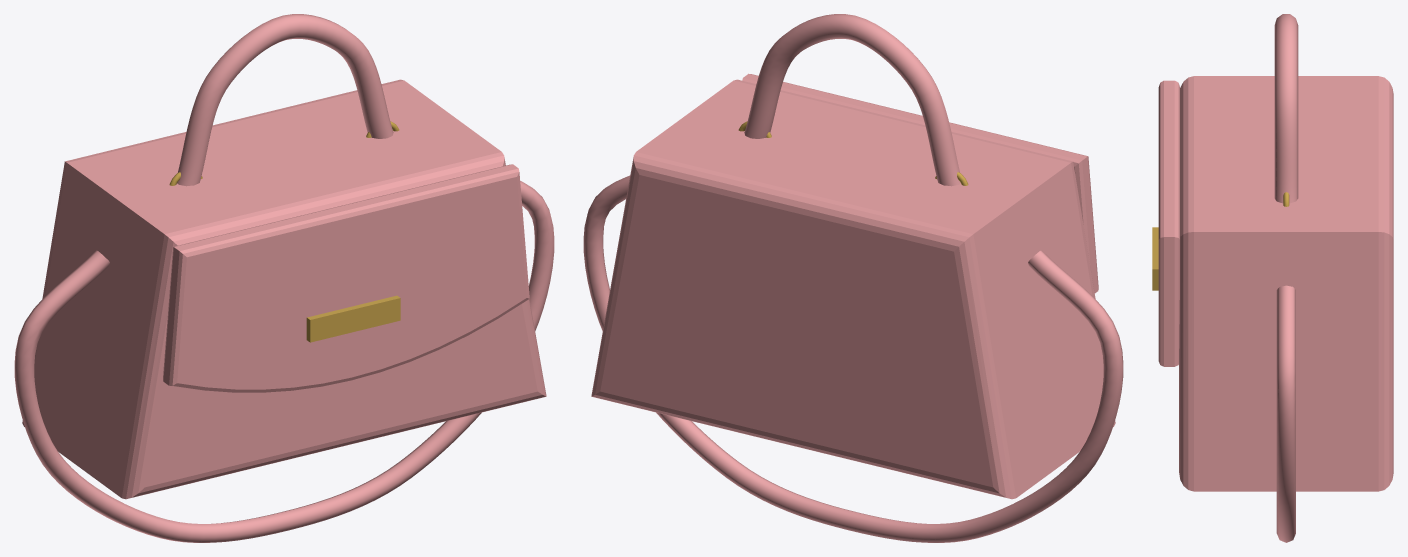
File: bolso-rosa.glb
3 renders of one model, left to right at view 1: azimuth 30°, elevation 25°; view 2: azimuth 150°, elevation 25°; view 3: azimuth 270°, elevation 25°, orthographic. The views are drawn at different scales.
Size of the model in its own units: 0.2737 by 0.2497 by 0.1125.
